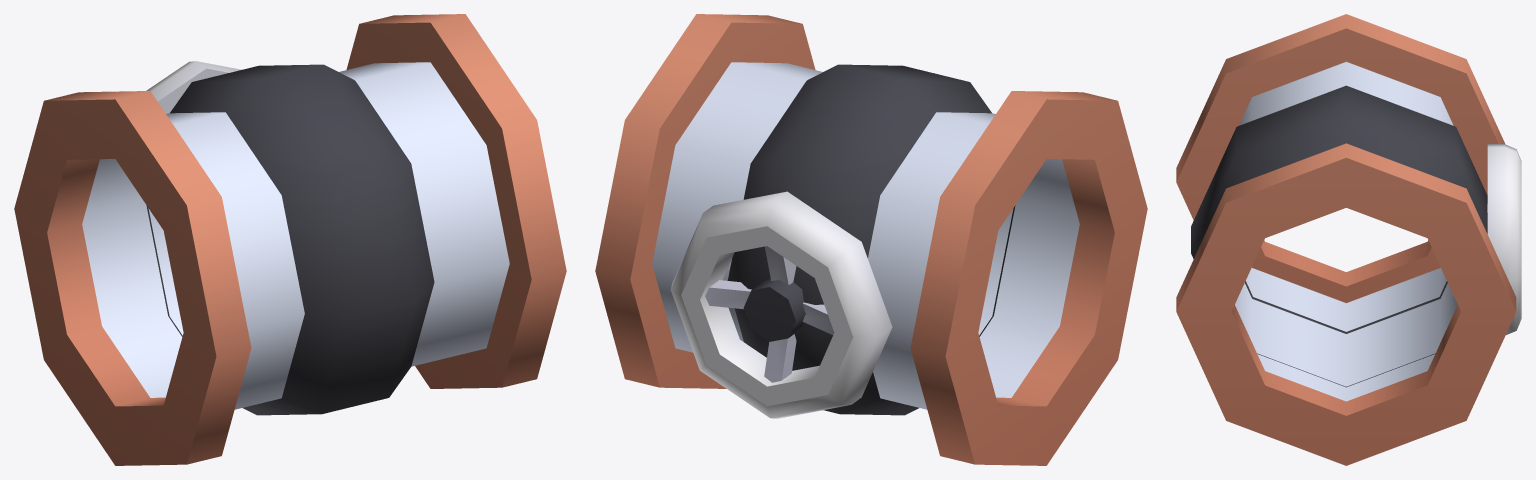
File: pipe-glass-large-valve.obj
3 renders of one model, left to right at view 1: azimuth 30°, elevation 25°; view 2: azimuth 150°, elevation 25°; view 3: azimuth 270°, elevation 25°, orthographic. The views are drawn at different scales.
Visible parts, largest first — view 1: pipe-glass-large-valve; view 2: pipe-glass-large-valve; view 3: pipe-glass-large-valve.
Part boxes in pixels (box(x1,y1,x2,y2)): pipe-glass-large-valve: box(14, 14, 566, 465); pipe-glass-large-valve: box(595, 14, 1147, 465); pipe-glass-large-valve: box(1176, 14, 1521, 465).
Size of the model in its own units: 1 by 1 by 1.02.
